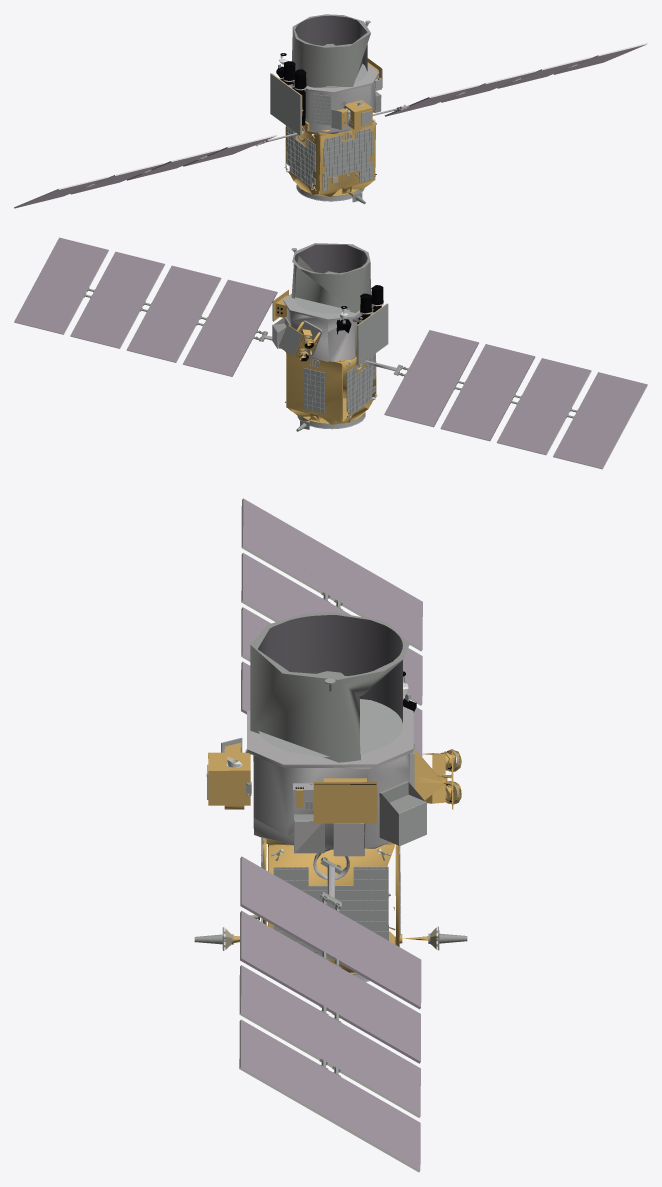
Rendered from cloud-aerosol-lidar-and-infrared-pathfinder-sate.glb.
3 views of the same model, one above another, from view 1: azimuth 30°, elevation 25°; view 2: azimuth 150°, elevation 25°; view 3: azimuth 270°, elevation 25° (orthographic). The views are drawn at different scales.
Visible parts, largest first — view 1: Mesh; view 2: Mesh; view 3: Mesh.
Boxes of the visible parts, box(x1,y1,x2,y2) form: Mesh: box(14, 14, 647, 208); Mesh: box(14, 237, 647, 469); Mesh: box(194, 498, 467, 1172).
Bounding box in the file's own units: 228 × 57.85 × 45.62.
1 material, 1 textured.
